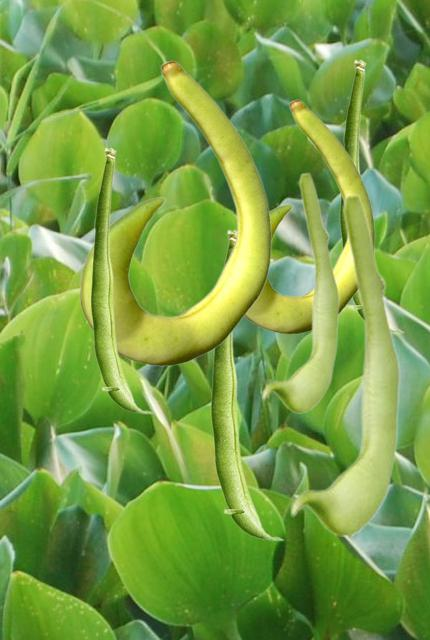french_bean: (79, 60, 271, 365), (289, 192, 399, 535), (230, 99, 374, 333), (210, 229, 284, 540), (261, 171, 338, 412), (339, 59, 404, 332), (90, 147, 153, 413)
